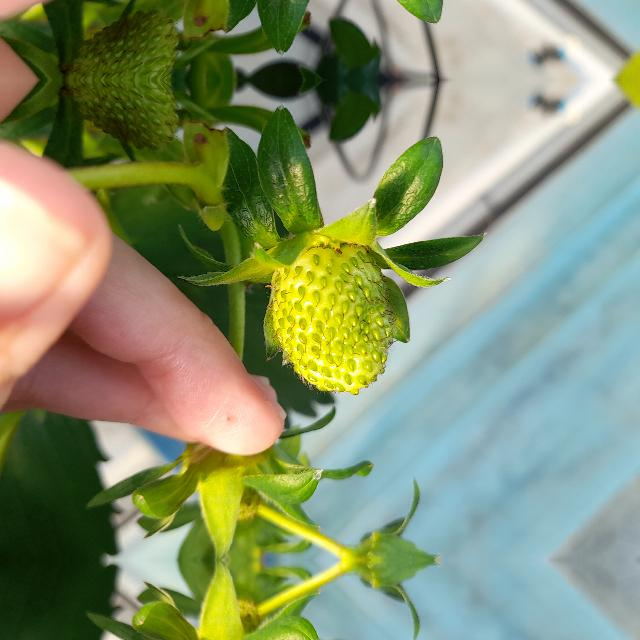Health_25: (264, 242, 398, 396)
